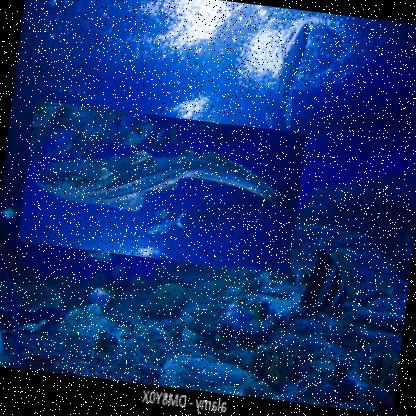zebra_shark: (17, 100, 306, 275)
